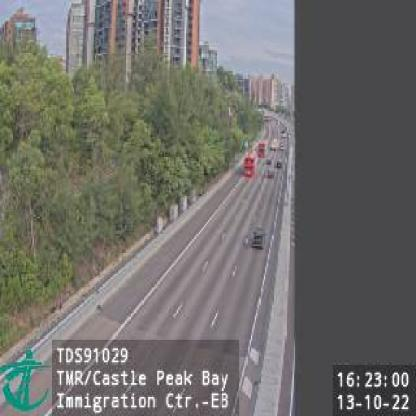Bus: (243, 155, 255, 177), (257, 140, 267, 160)
Car: (252, 228, 265, 251)
